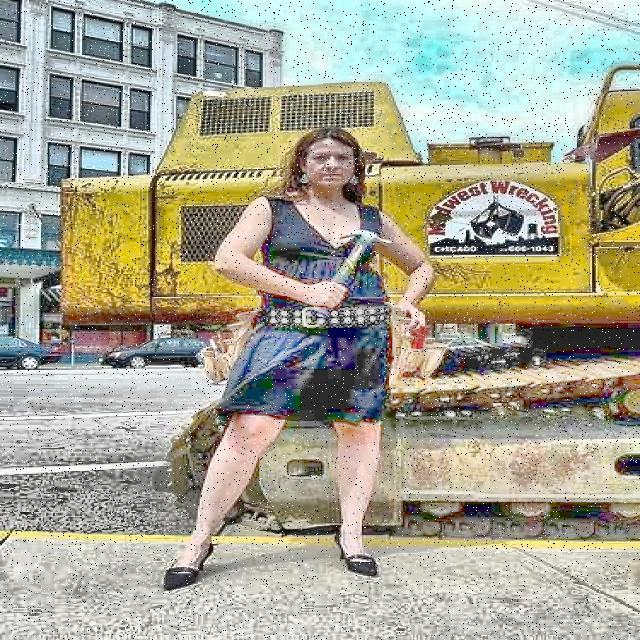hammer: (313, 227, 397, 311)
